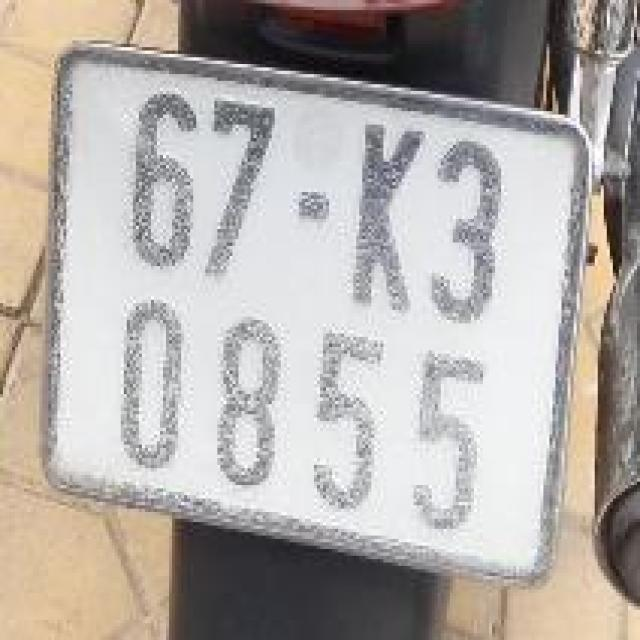0: (104, 286, 195, 465)
3: (435, 136, 510, 332)
5: (302, 320, 395, 529), (402, 338, 492, 540)
6: (128, 67, 201, 273)
7: (202, 89, 281, 295)
8: (205, 308, 287, 490)
K: (340, 106, 424, 312)
